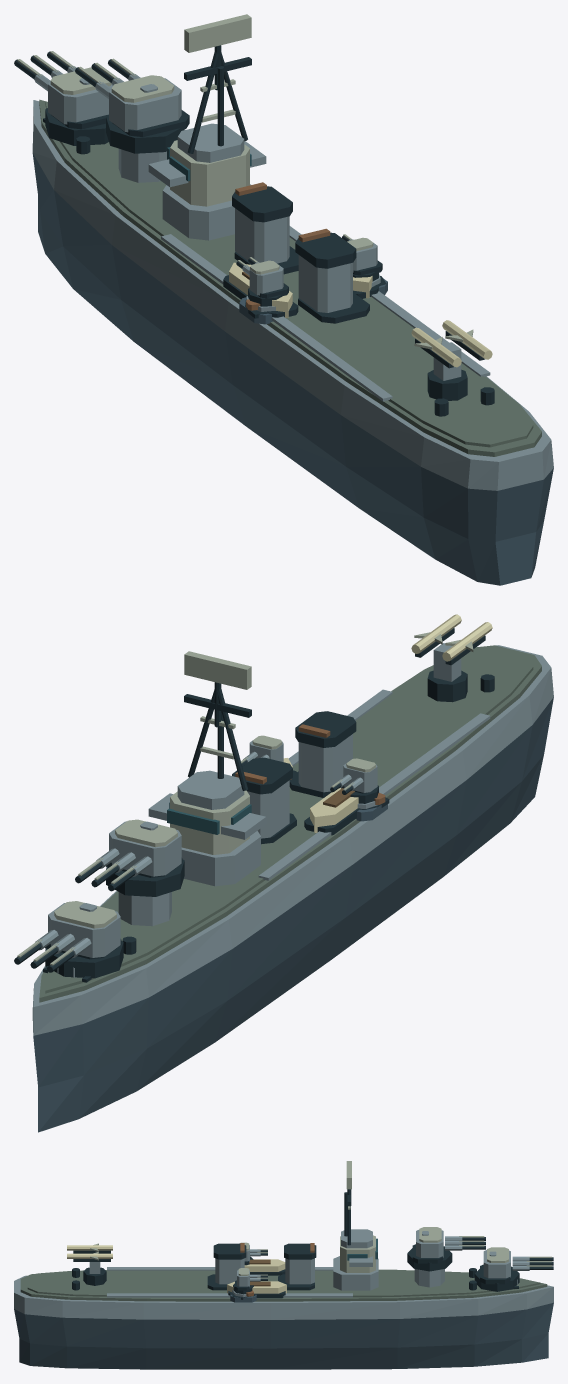
File: historic-galveston.glb
3 renders of one model, top to bottom at view 1: azimuth 30°, elevation 25°; view 2: azimuth 150°, elevation 25°; view 3: azimuth 270°, elevation 25°, orthographic. The views are drawn at different scales.
Visible parts, largest first — view 1: historic-galveston-historic-galveston-geometry, historic-galveston-part_bridge.107-geometry, historic-galveston-turret_main_1.074-geometry, historic-galveston-historic_funnel_1.055-geometry, historic-galveston-turret_main_0.078-geometry, historic-galveston-historic_funnel_0.105-geometry, historic-galveston-naval_launcher_0.001-geometry, historic-galveston-turret_aa_aa-port.109-geometry, historic-galveston-turret_aa_aa-starboard.105-geometry; view 2: historic-galveston-historic-galveston-geometry, historic-galveston-part_bridge.107-geometry, historic-galveston-turret_main_1.074-geometry, historic-galveston-turret_main_0.078-geometry, historic-galveston-historic_funnel_1.055-geometry, historic-galveston-naval_launcher_0.001-geometry, historic-galveston-historic_funnel_0.105-geometry, historic-galveston-turret_aa_aa-port.109-geometry, historic-galveston-turret_aa_aa-starboard.105-geometry; view 3: historic-galveston-historic-galveston-geometry, historic-galveston-part_bridge.107-geometry, historic-galveston-turret_main_0.078-geometry, historic-galveston-turret_main_1.074-geometry, historic-galveston-historic_funnel_0.105-geometry, historic-galveston-historic_funnel_1.055-geometry, historic-galveston-naval_launcher_0.001-geometry, historic-galveston-turret_aa_aa-starboard.105-geometry.
Boxes of the visible parts, box(x1,y1,x2,y2) form: historic-galveston-historic-galveston-geometry: box(32, 99, 553, 585); historic-galveston-part_bridge.107-geometry: box(148, 14, 266, 240); historic-galveston-turret_main_1.074-geometry: box(75, 58, 189, 153); historic-galveston-historic_funnel_1.055-geometry: box(295, 228, 369, 323); historic-galveston-turret_main_0.078-geometry: box(14, 51, 112, 145); historic-galveston-historic_funnel_0.105-geometry: box(232, 182, 298, 274); historic-galveston-naval_launcher_0.001-geometry: box(411, 320, 492, 400); historic-galveston-turret_aa_aa-port.109-geometry: box(236, 257, 288, 306); historic-galveston-turret_aa_aa-starboard.105-geometry: box(342, 234, 382, 281); historic-galveston-historic-galveston-geometry: box(32, 645, 553, 1132); historic-galveston-part_bridge.107-geometry: box(148, 651, 266, 886); historic-galveston-turret_main_1.074-geometry: box(75, 819, 184, 896); historic-galveston-turret_main_0.078-geometry: box(14, 901, 123, 978); historic-galveston-historic_funnel_1.055-geometry: box(289, 711, 356, 797); historic-galveston-naval_launcher_0.001-geometry: box(411, 614, 492, 702); historic-galveston-historic_funnel_0.105-geometry: box(232, 757, 296, 844); historic-galveston-turret_aa_aa-port.109-geometry: box(330, 758, 378, 803); historic-galveston-turret_aa_aa-starboard.105-geometry: box(241, 735, 283, 766); historic-galveston-historic-galveston-geometry: box(14, 1259, 553, 1369); historic-galveston-part_bridge.107-geometry: box(333, 1161, 378, 1290); historic-galveston-turret_main_0.078-geometry: box(474, 1247, 553, 1291); historic-galveston-turret_main_1.074-geometry: box(407, 1227, 485, 1271); historic-galveston-historic_funnel_0.105-geometry: box(278, 1243, 316, 1290); historic-galveston-historic_funnel_1.055-geometry: box(207, 1243, 246, 1290); historic-galveston-naval_launcher_0.001-geometry: box(67, 1243, 112, 1285); historic-galveston-turret_aa_aa-starboard.105-geometry: box(233, 1268, 267, 1294).
Bounding box in the file's own units: 0.6941 × 1.66 × 4.32.
